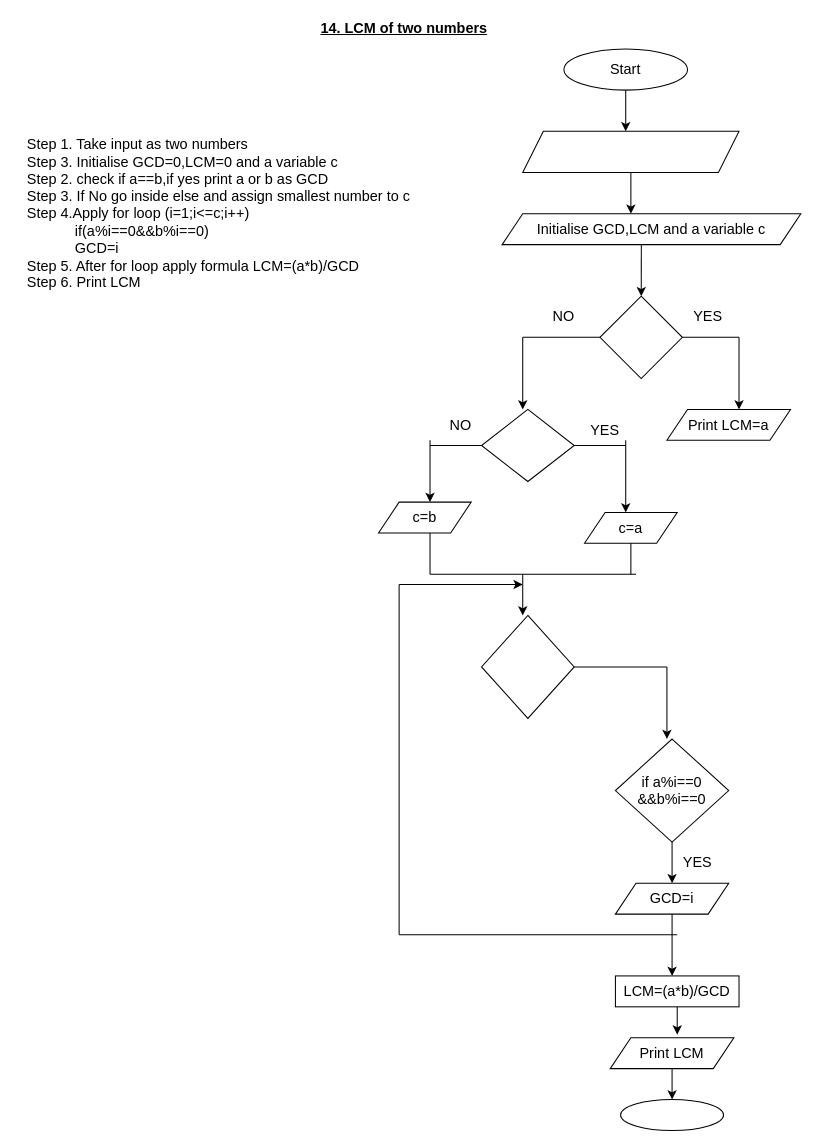
Image size: 819x1148. Some labels were removed from this diagram. Here are the shapes that lost their labels. From the top down, the box of each, then its label:
(522, 130, 739, 173): Input 2 numbers a and b
(599, 295, 682, 379): Check if a==b
(480, 408, 574, 482): if a<b
(480, 614, 574, 718): for(i=1;i<=c; i++)
(620, 1098, 724, 1130): Stop
